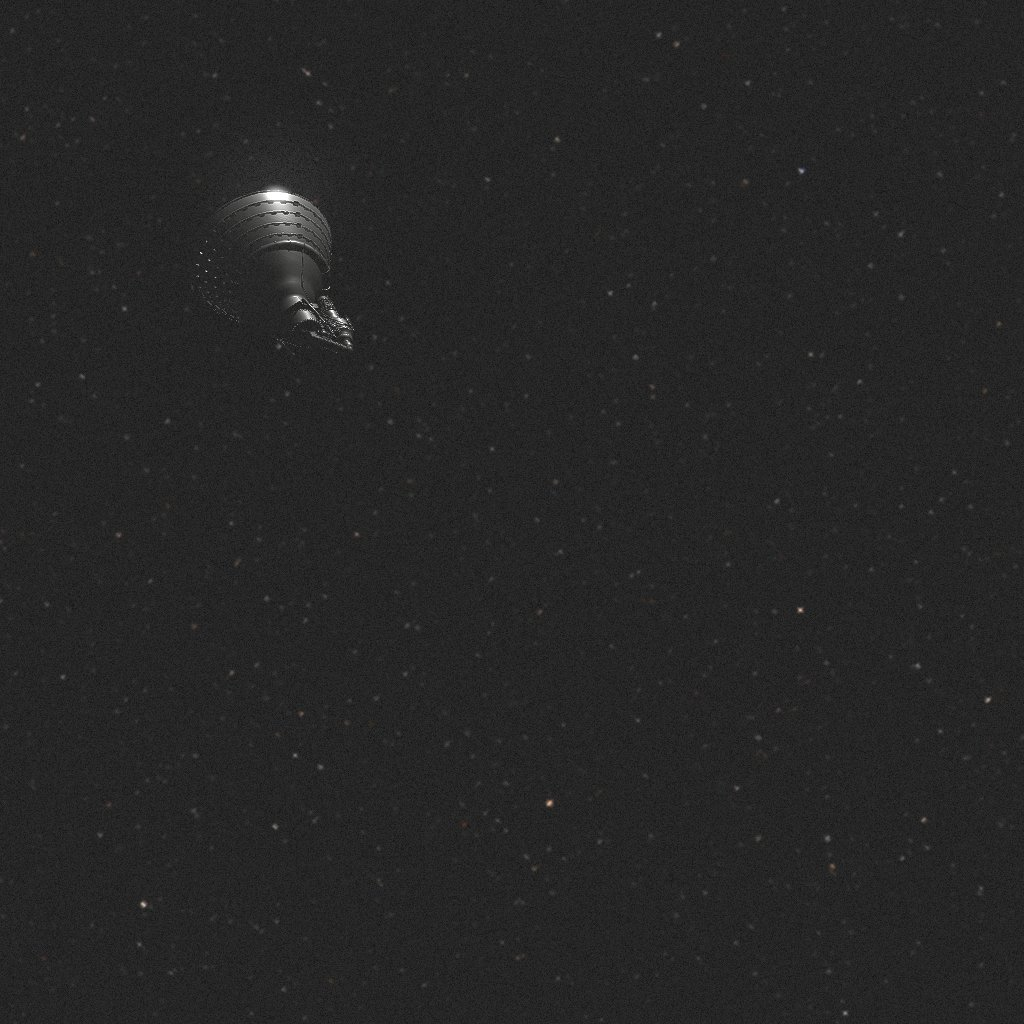debris: (189, 190, 354, 363)
